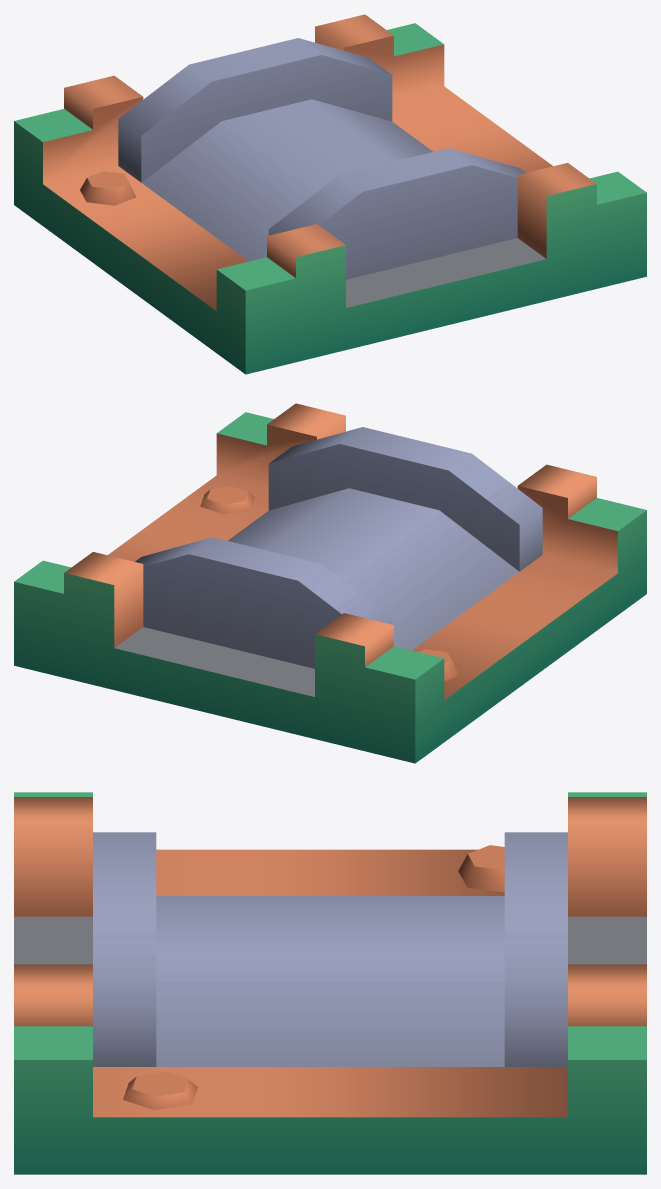
Rendered from tile-river-bridge.fbx.
3 views of the same model, one above another, from view 1: azimuth 30°, elevation 25°; view 2: azimuth 150°, elevation 25°; view 3: azimuth 270°, elevation 25° (orthographic). The views are drawn at different scales.
Visible parts, largest first — view 1: tile-river-bridge; view 2: tile-river-bridge; view 3: tile-river-bridge.
Boxes of the visible parts, x1,y1,x2,y2 form: tile-river-bridge: [14, 14, 646, 374]; tile-river-bridge: [14, 403, 646, 763]; tile-river-bridge: [14, 792, 646, 1174].
Bounding box in the file's own units: 100 × 30 × 100.
